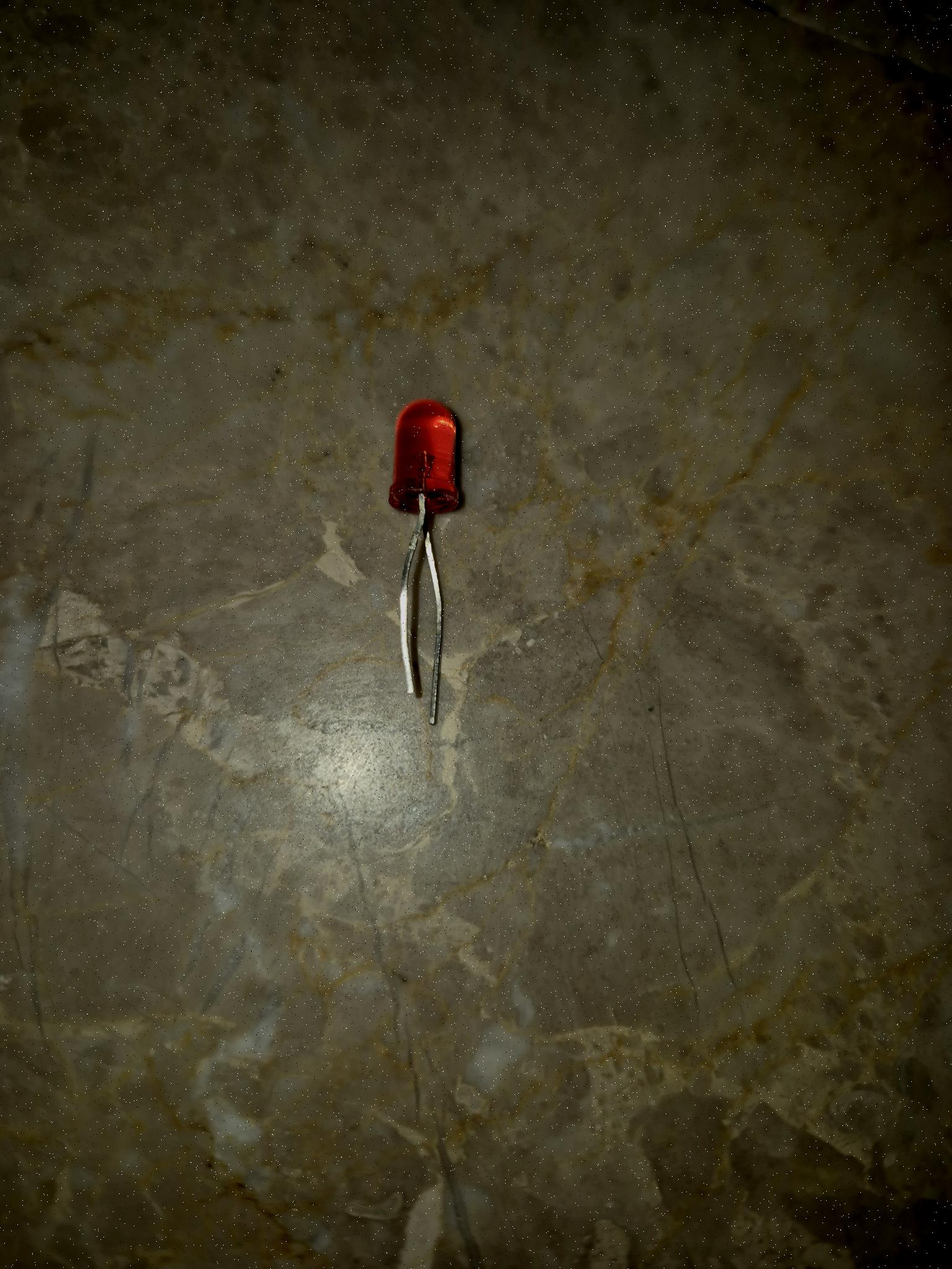led-diode: (388, 398, 464, 724)
